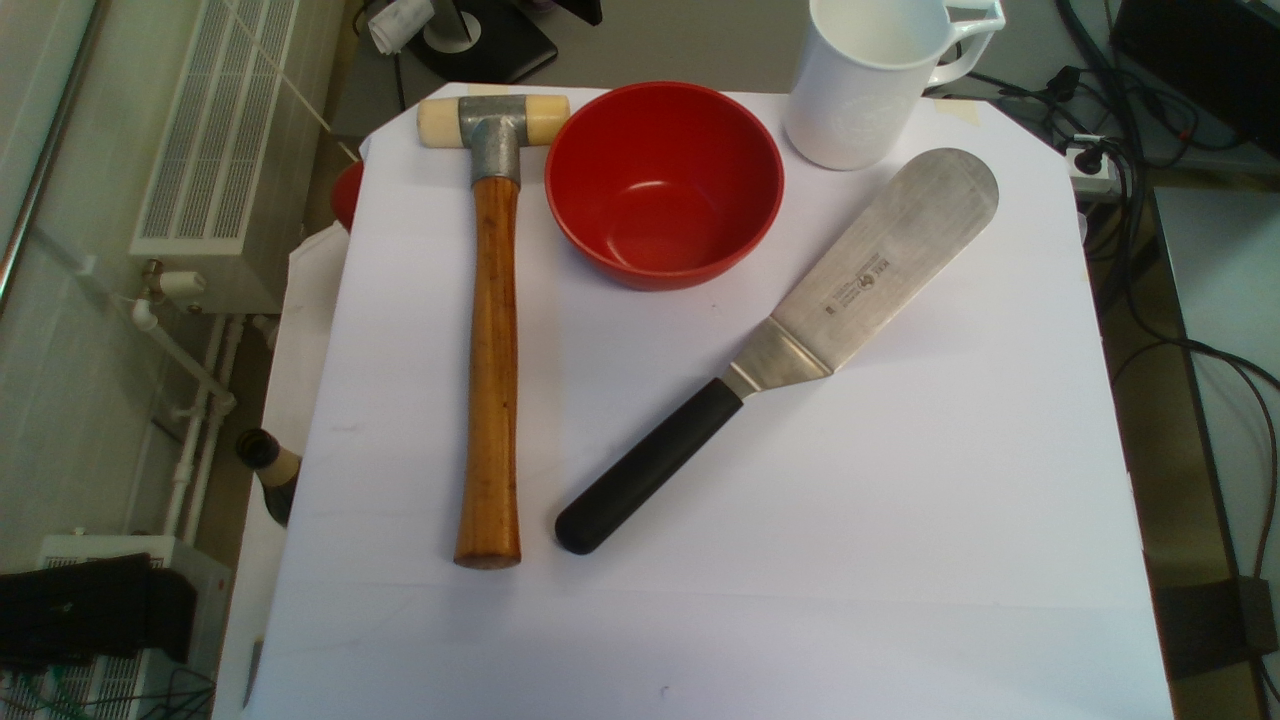bowl: (543, 80, 786, 298)
cup: (779, 1, 1009, 172)
hammer: (414, 90, 571, 575)
spatula: (555, 146, 1002, 564)
